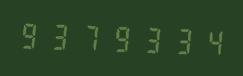four: (191, 22, 219, 59)
nine: (17, 16, 45, 53), (104, 19, 132, 56)
seven: (75, 18, 103, 55)
three: (46, 17, 74, 54), (133, 20, 161, 57), (162, 21, 190, 58)
